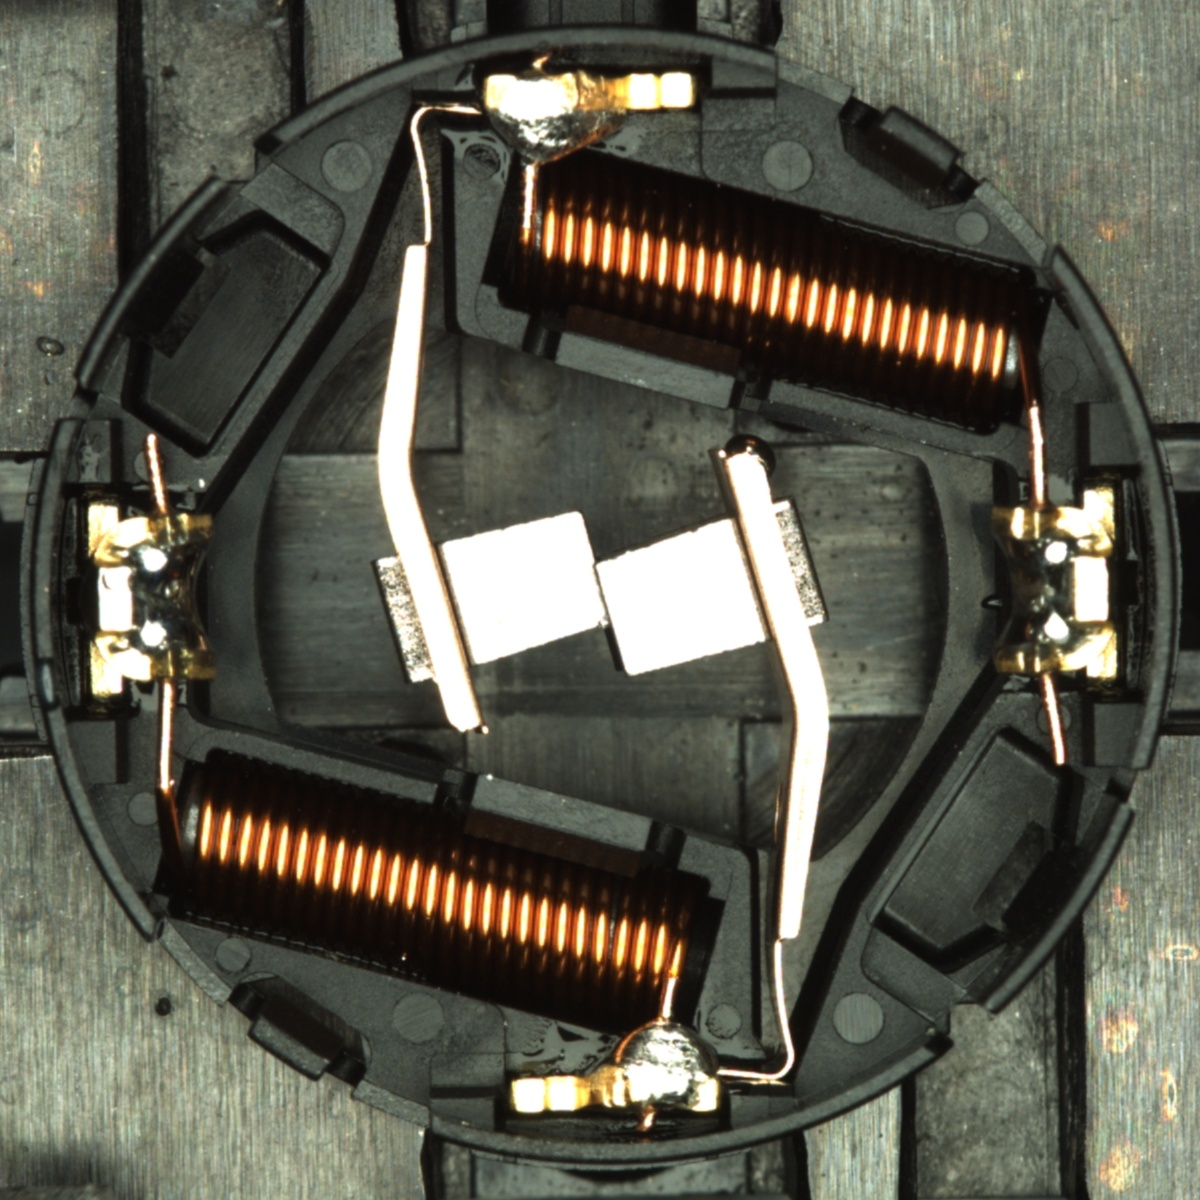1: (712, 929, 942, 1153), (254, 31, 482, 255)
2: (712, 31, 942, 255), (254, 929, 482, 1153)
3: (24, 255, 254, 480), (942, 704, 1170, 929)
4: (254, 255, 482, 480), (712, 704, 942, 929)
5: (482, 143, 712, 368), (482, 816, 712, 1041)
6: (254, 704, 482, 929)
7: (942, 255, 1170, 480), (24, 704, 254, 929)
cacbon: (392, 498, 803, 686)
chau_dien: (81, 496, 222, 698), (984, 488, 1124, 686)
hat_chi: (724, 432, 777, 482)
tay_choi: (482, 67, 700, 170), (507, 1016, 723, 1118)
thanh_de: (955, 786, 1142, 1031), (60, 165, 245, 404)
